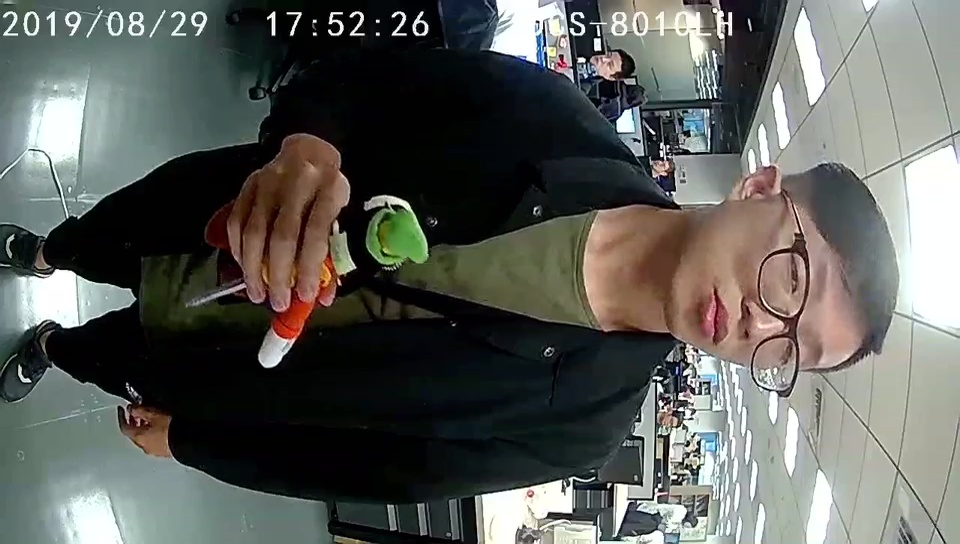goofy: (208, 195, 430, 368)
